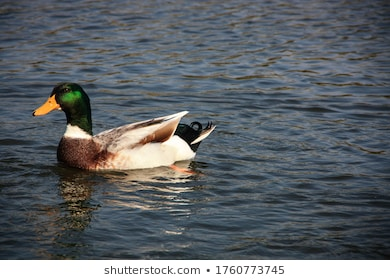duck: (25, 68, 227, 182)
